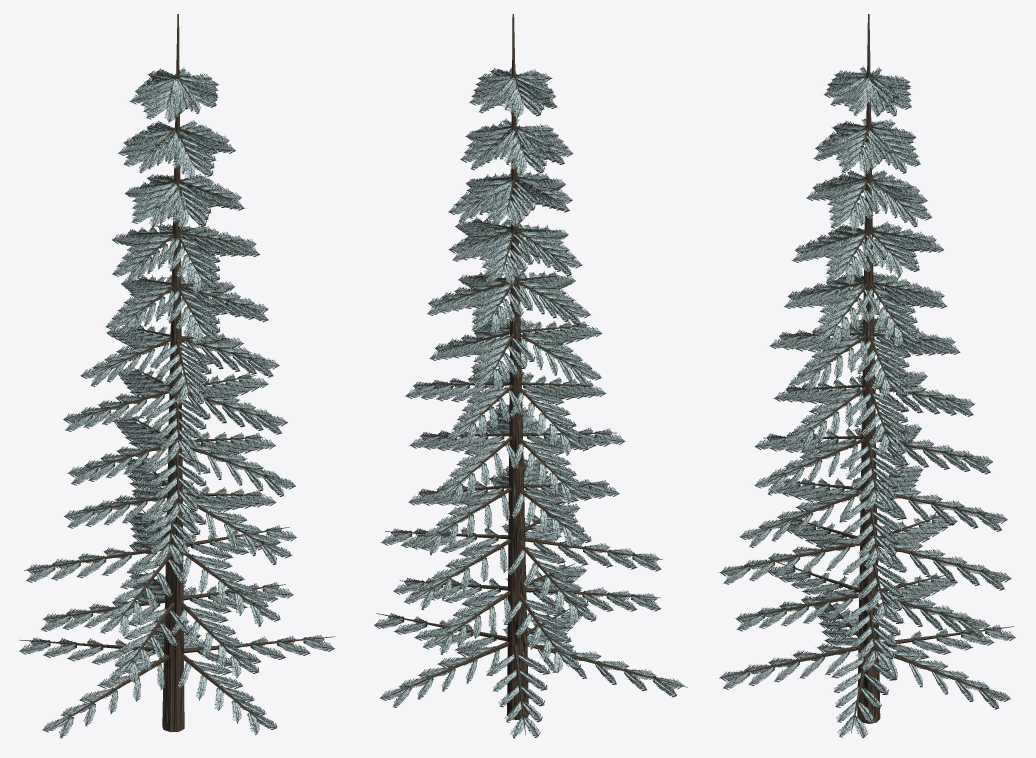
File: winter-pine.glb
3 renders of one model, left to right at view 1: azimuth 30°, elevation 25°; view 2: azimuth 150°, elevation 25°; view 3: azimuth 270°, elevation 25°, orthographic.
Visible parts, largest first — view 1: needles, bark; view 2: needles, bark; view 3: needles, bark.
Part boxes in pixels (x1,y1,x2,y2): needles: (19, 67, 334, 738); bark: (19, 14, 335, 732); needles: (374, 67, 684, 738); bark: (376, 14, 687, 734); needles: (720, 66, 1015, 738); bark: (719, 14, 1013, 733).
Size of the model in its own units: 7.57 by 17 by 6.65.
2 materials, 2 textured.
